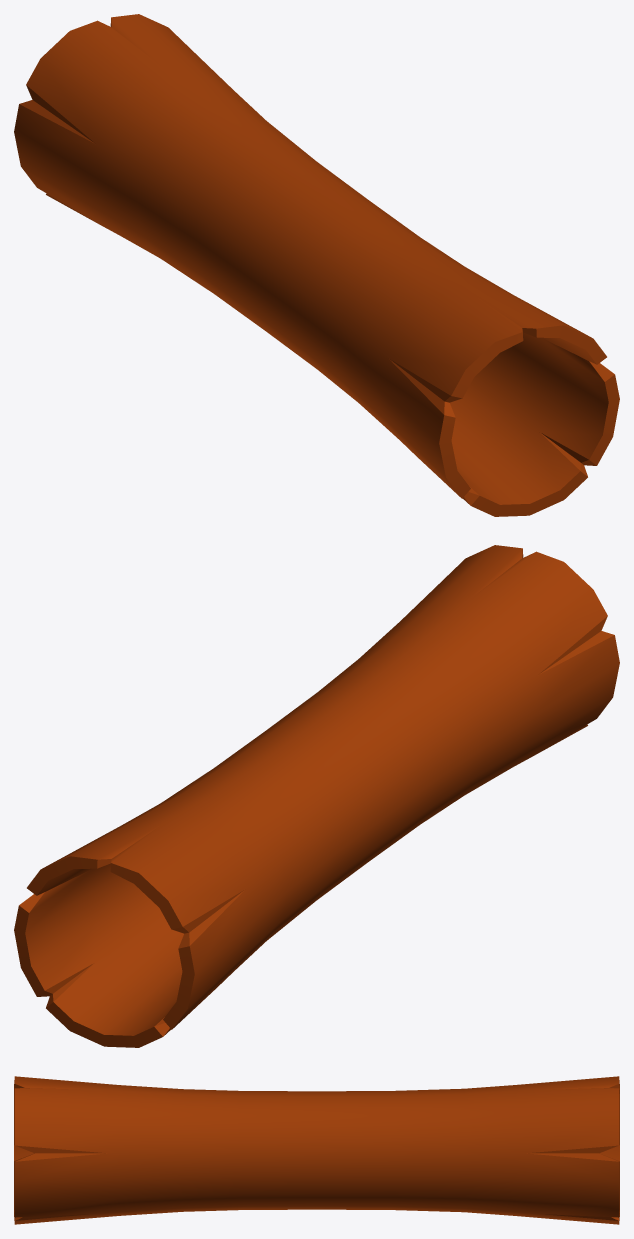
File: MadeiraPequena.gltf
The picture shows the model from 3 angles, top to bottom: view 1: azimuth 30°, elevation 25°; view 2: azimuth 150°, elevation 25°; view 3: azimuth 270°, elevation 25°; orthographic projection. The views are drawn at different scales.
Parts seen in each view (by area): view 1: MadeiraPequena; view 2: MadeiraPequena; view 3: MadeiraPequena.
Part boxes in pixels (x1,y1,x2,y2): MadeiraPequena: (14,14,619,516); MadeiraPequena: (14,545,619,1047); MadeiraPequena: (14,1076,619,1224).
Size of the model in its own units: 0.9178 by 0.8993 by 3.75.
Materials: 1 (1 with a texture image).
